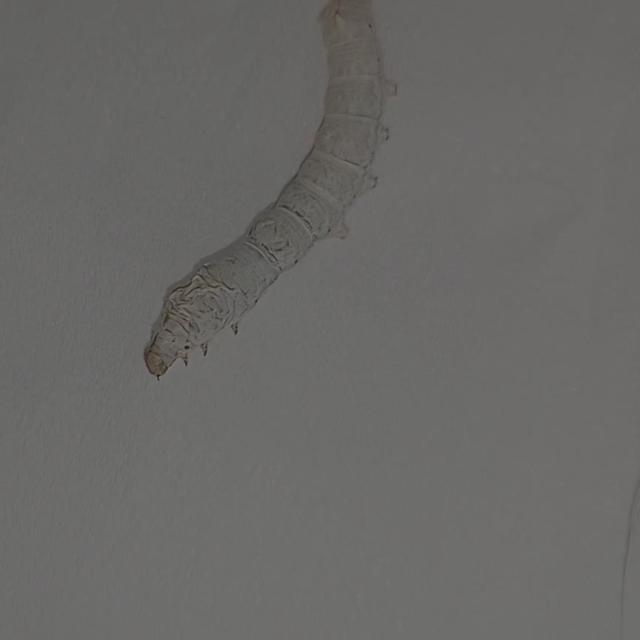Healthy: (134, 4, 402, 384)
